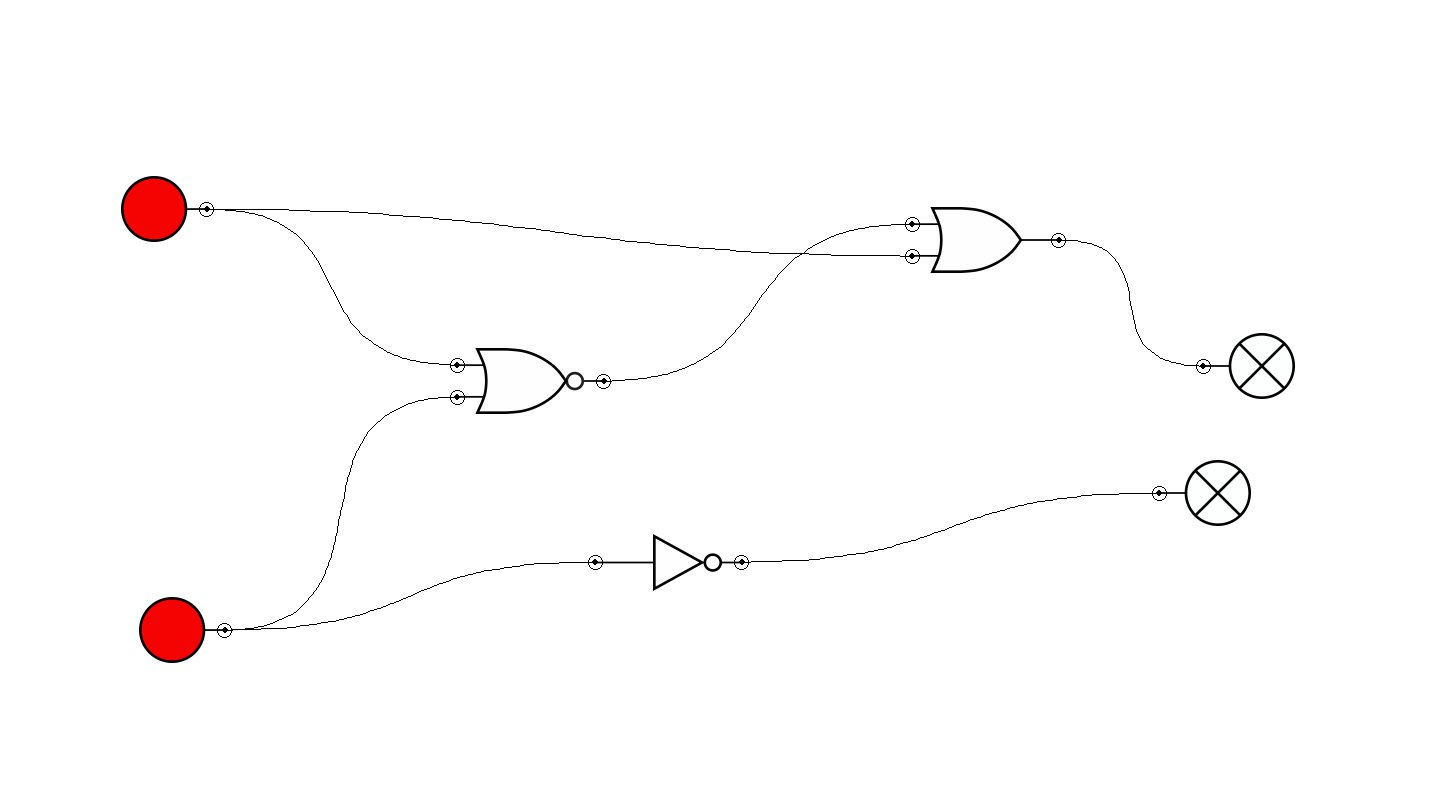bulb: (1196, 333, 1295, 399), (1152, 460, 1251, 526)
nor: (450, 348, 611, 414)
not: (588, 534, 749, 591)
or: (905, 207, 1066, 273)
switch_False: (121, 176, 214, 242), (139, 597, 232, 663)
